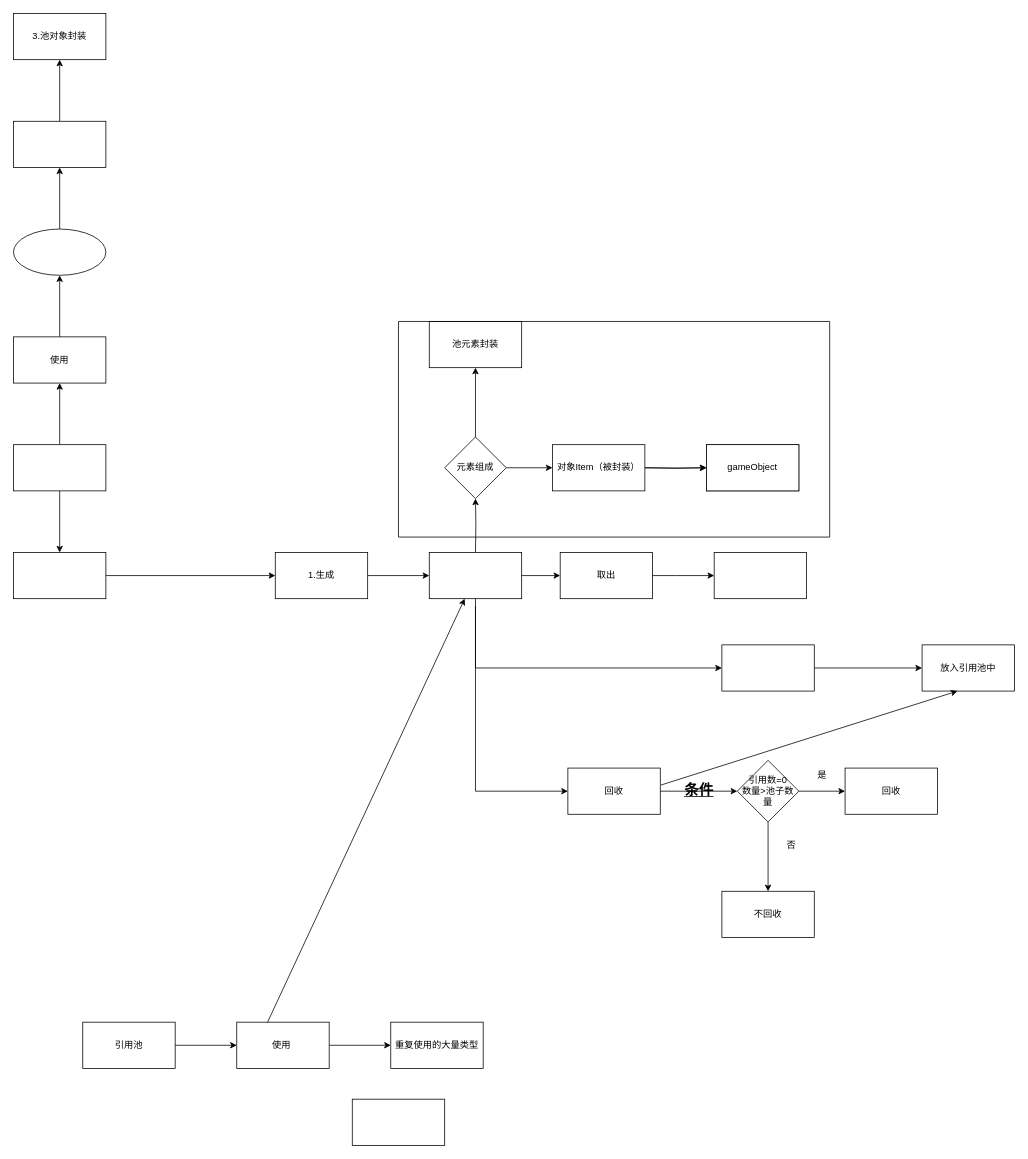
The diagram is 1028 pixels wide and 1159 high, and some of its shapes have lost their labels. The centre of each missing label's shape, as x and y in pixels:
"1.创建预制体" belongs at (59,251).
"2.对象封装" belongs at (59,144).
"分级管理" belongs at (398,1121).
"对象池" belongs at (59,467).
"池子" belongs at (475,575).
"生成" belongs at (760,575).
"管理" belongs at (59,575).
"释放" belongs at (767,667).
